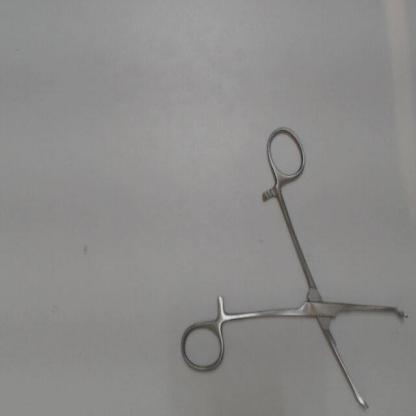Allis Tissue Forceps: (175, 118, 414, 415)
